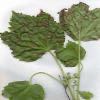grape leaf black rot: (0, 8, 65, 63), (57, 2, 99, 41), (54, 40, 87, 69), (1, 80, 46, 99)
